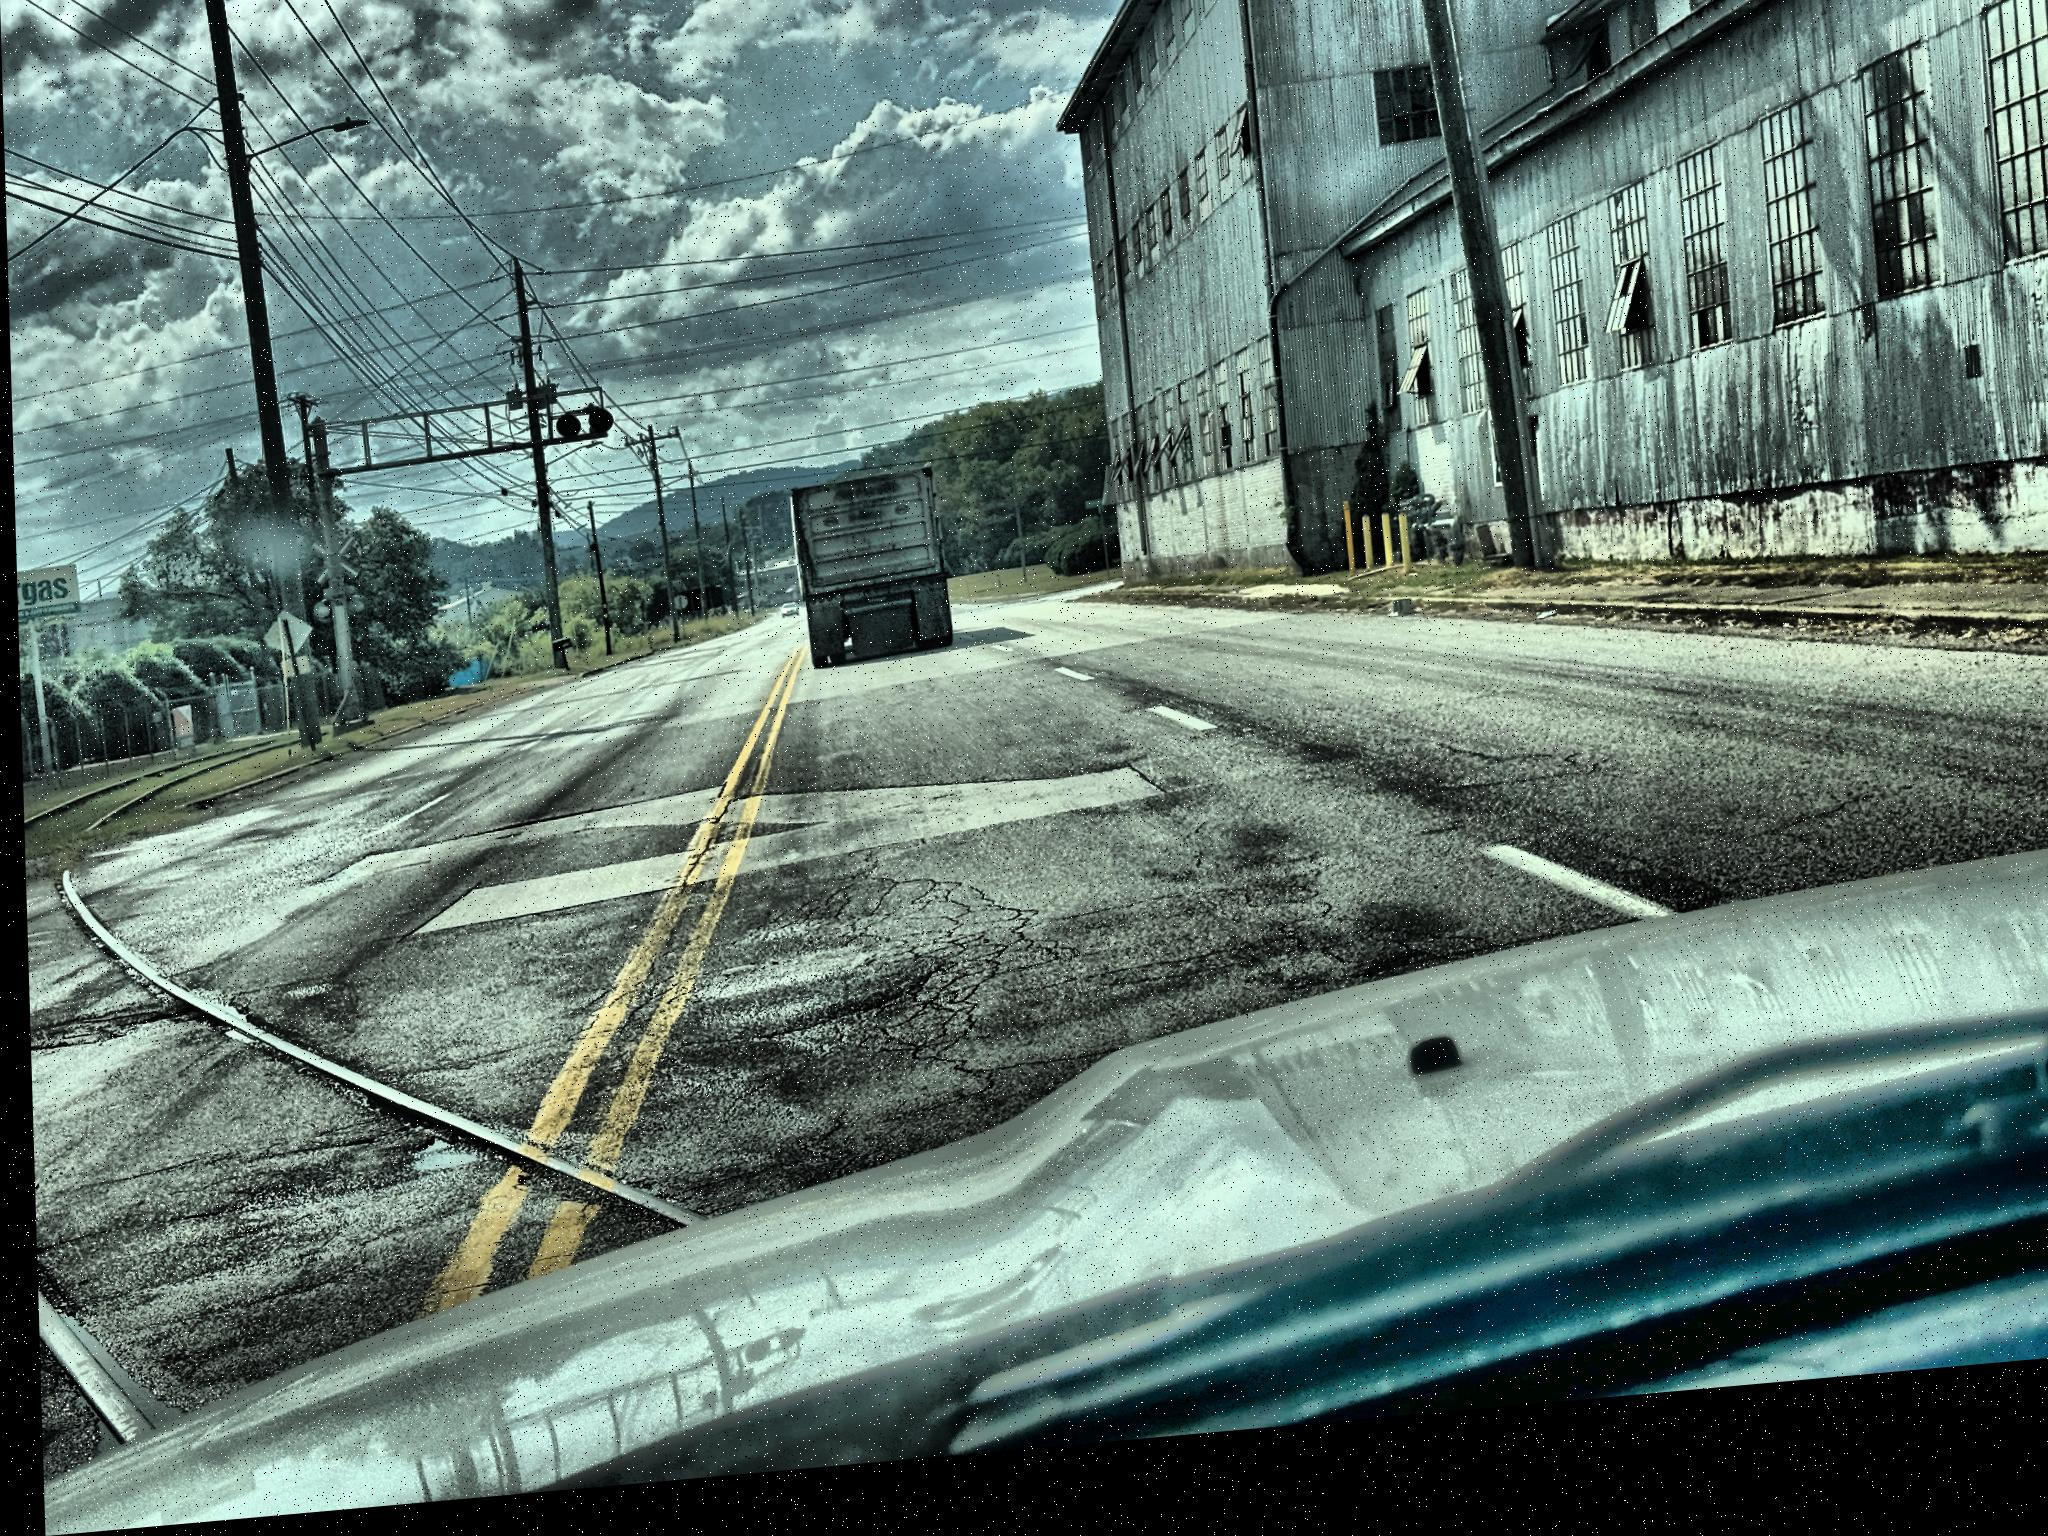pothole: (505, 1130, 649, 1231), (92, 1003, 230, 1048), (390, 1130, 487, 1187)
